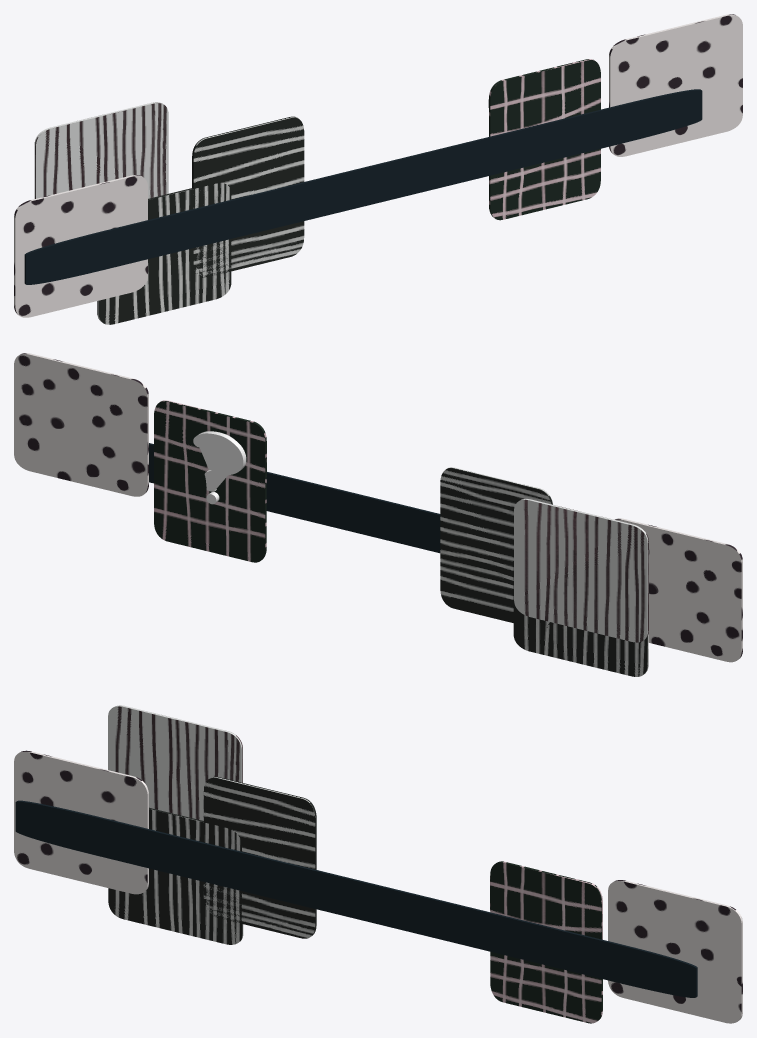
File: 030_Shadows_Frame_4.fbx
The picture shows the model from 3 angles, top to bottom: view 1: azimuth 30°, elevation 25°; view 2: azimuth 150°, elevation 25°; view 3: azimuth 330°, elevation 25°; orthographic projection.
Parts seen in each view (by area): view 1: CHIP2.060, CHIP2.061, CHIP2.057, CHIP2.058, CHIP2.062, CHIP2.023, CHIP2.059; view 2: CHIP2.023, CHIP2.061, CHIP2.057, CHIP2.058, CHIP2.062, CHIP2.060, CHIP2.059, Curve.003; view 3: CHIP2.060, CHIP2.061, CHIP2.057, CHIP2.058, CHIP2.062, CHIP2.023, CHIP2.059.
Part boxes in pixels (box(x1,y1,x2,y2)): CHIP2.060: box(24, 89, 702, 284); CHIP2.061: box(609, 14, 742, 156); CHIP2.057: box(488, 59, 600, 220); CHIP2.058: box(14, 175, 147, 317); CHIP2.062: box(192, 116, 304, 277); CHIP2.023: box(34, 102, 168, 198); CHIP2.059: box(97, 183, 231, 324); CHIP2.023: box(514, 498, 648, 642); CHIP2.061: box(14, 353, 148, 496); CHIP2.057: box(154, 400, 266, 562); CHIP2.058: box(615, 518, 742, 662); CHIP2.062: box(440, 467, 552, 627); CHIP2.060: box(149, 443, 440, 553); CHIP2.059: box(513, 567, 648, 676); Curve.003: box(193, 431, 246, 504); CHIP2.060: box(15, 800, 697, 997); CHIP2.061: box(608, 880, 742, 1023); CHIP2.057: box(490, 861, 602, 1023); CHIP2.058: box(14, 750, 148, 894); CHIP2.062: box(203, 776, 316, 938); CHIP2.023: box(108, 705, 242, 820); CHIP2.059: box(108, 807, 243, 944).
Bounding box in the file's own units: 567 × 135 × 57.35.
